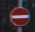No entry: (6, 5, 30, 27)
